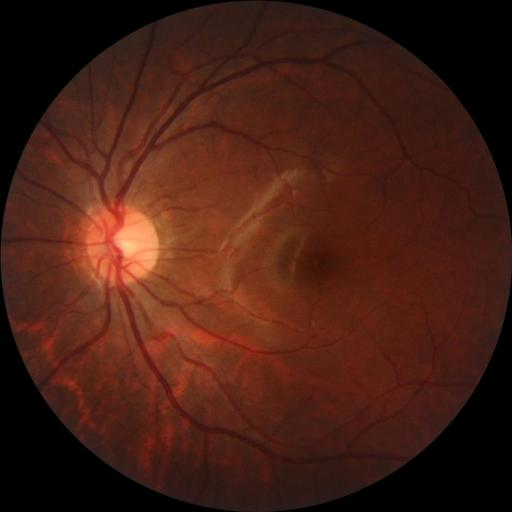Optic Cup: (109, 228, 136, 256)
Optic Disc: (86, 207, 160, 283)
